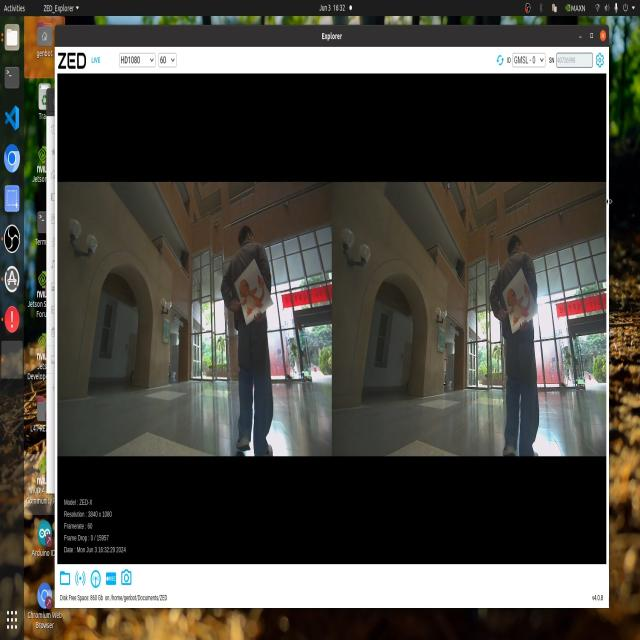red: (233, 262, 276, 316), (510, 272, 534, 324)
